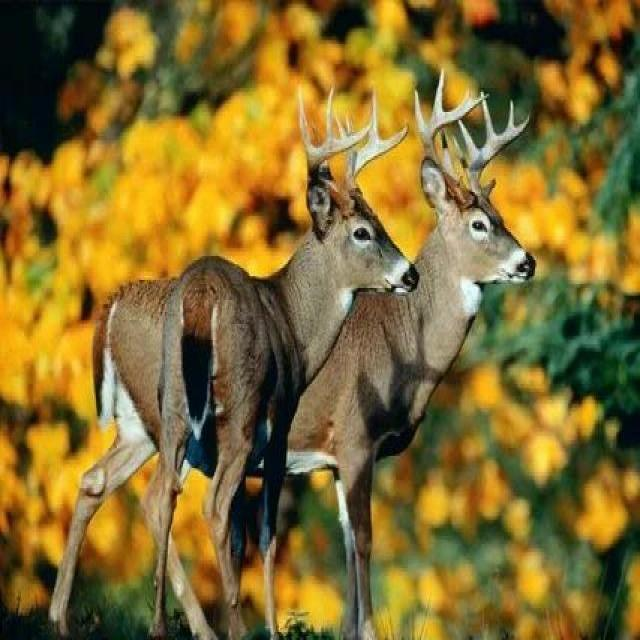deer: (119, 113, 537, 552), (101, 166, 382, 453)
